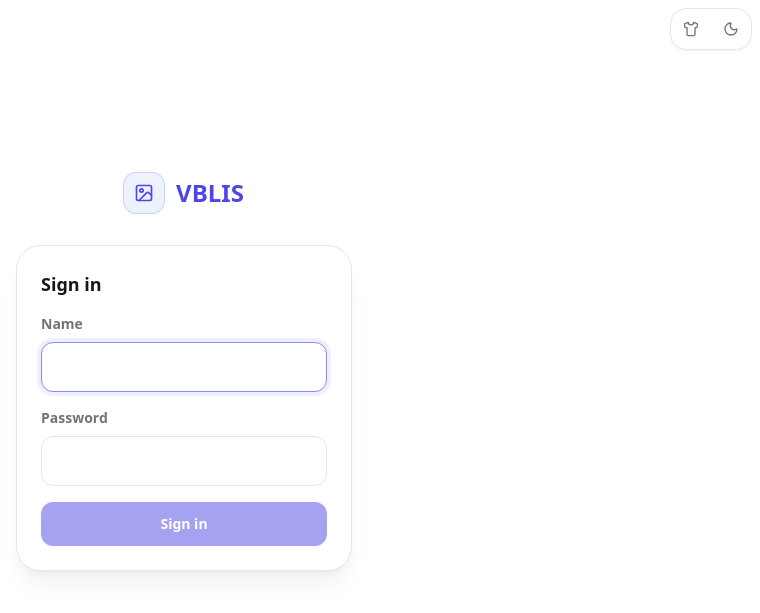
Test: SessionGate › in a browser › signing in › shows that it took too long when the second challenge expires as well, and does not try a third time
In the field labelled "Name": (184, 367) [41,342,327,392], type "alice"
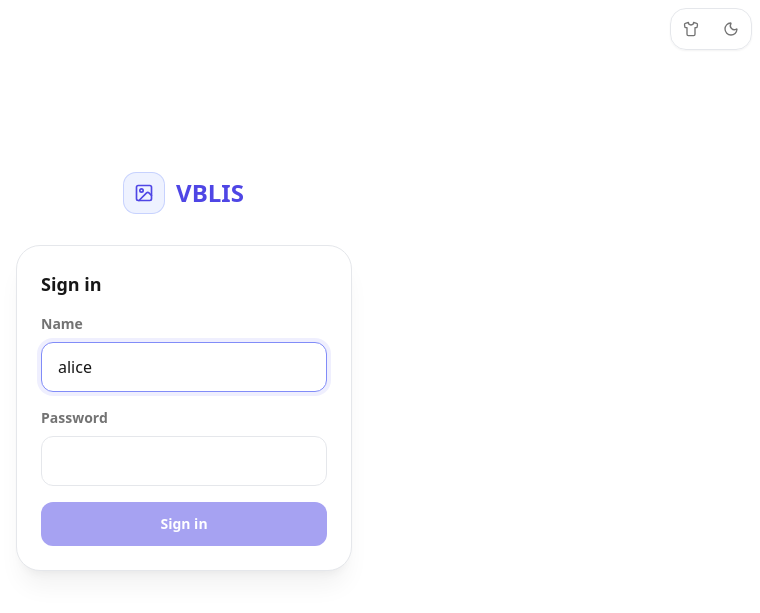
In the password field labelled "Password": (184, 461) [41,436,327,486], type "hunter2"
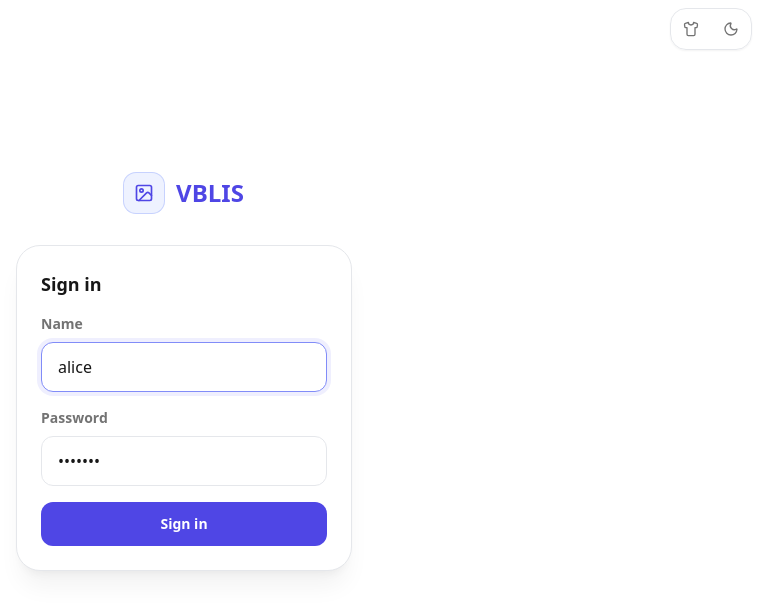
Click the button "Sign in": (184, 524) [41,502,327,546]
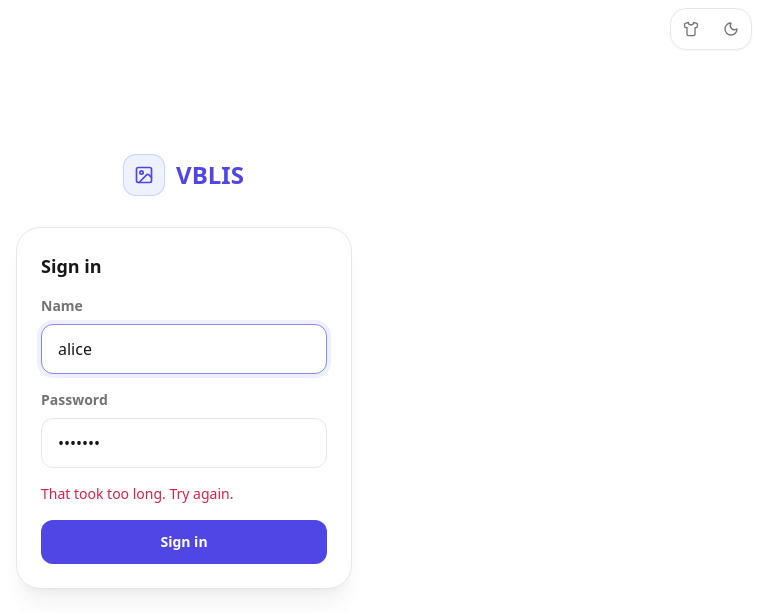
Result: the button "Sign in" is enabled at [41,520,327,564]
Result: the message reads "That took too long. Try again." at [41,484,234,503]
